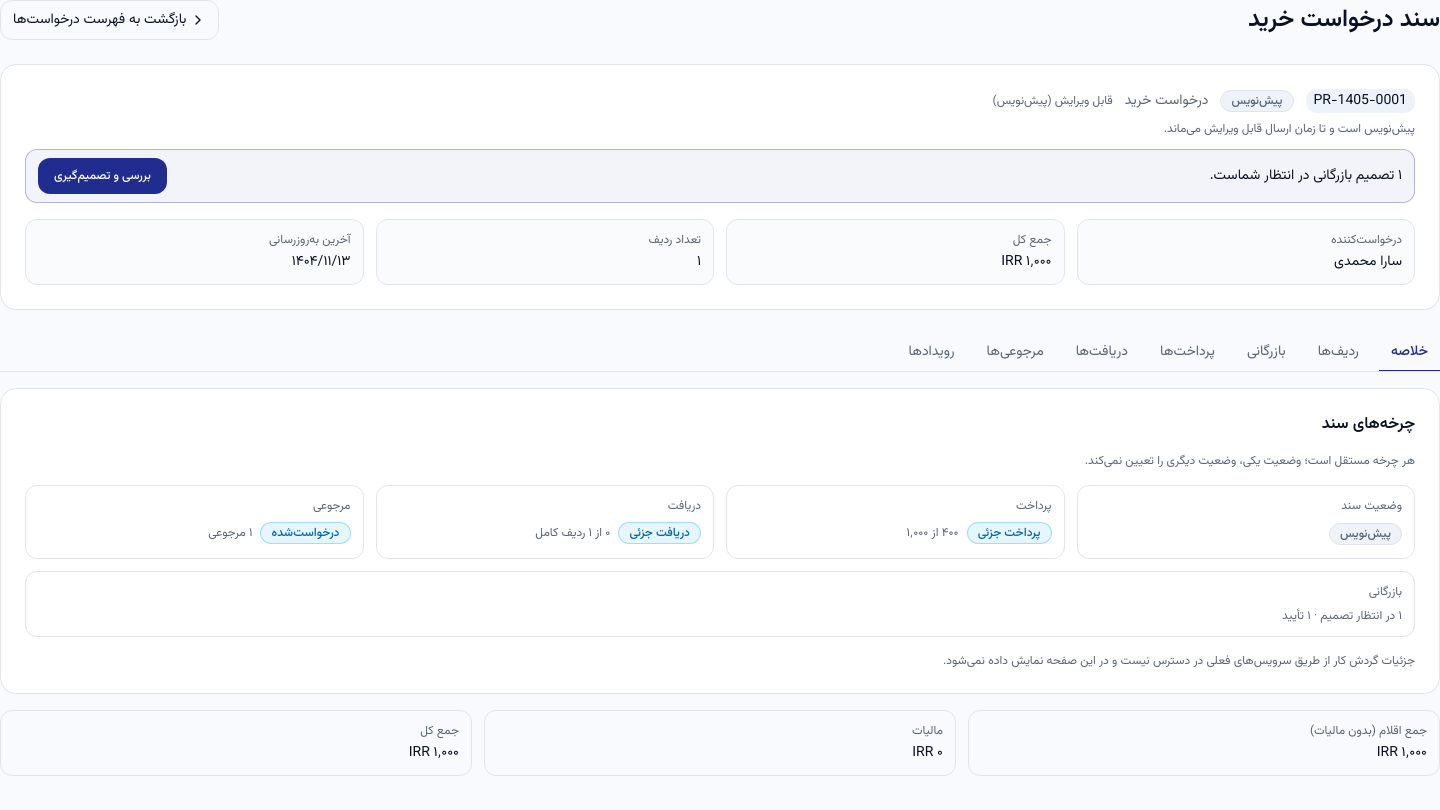
Test: CommercePurchaseDetailView — commercial decision integration › records the decision, adopts the server response and refetches approvals only
The image size is (1440, 810).
Expected: the element with test id "commerce-detail-identity" is shown, [0, 64, 1439, 310]
Click the tab with test id "commerce-detail-tab-commercial" at (1266, 353), box [1235, 334, 1298, 372]
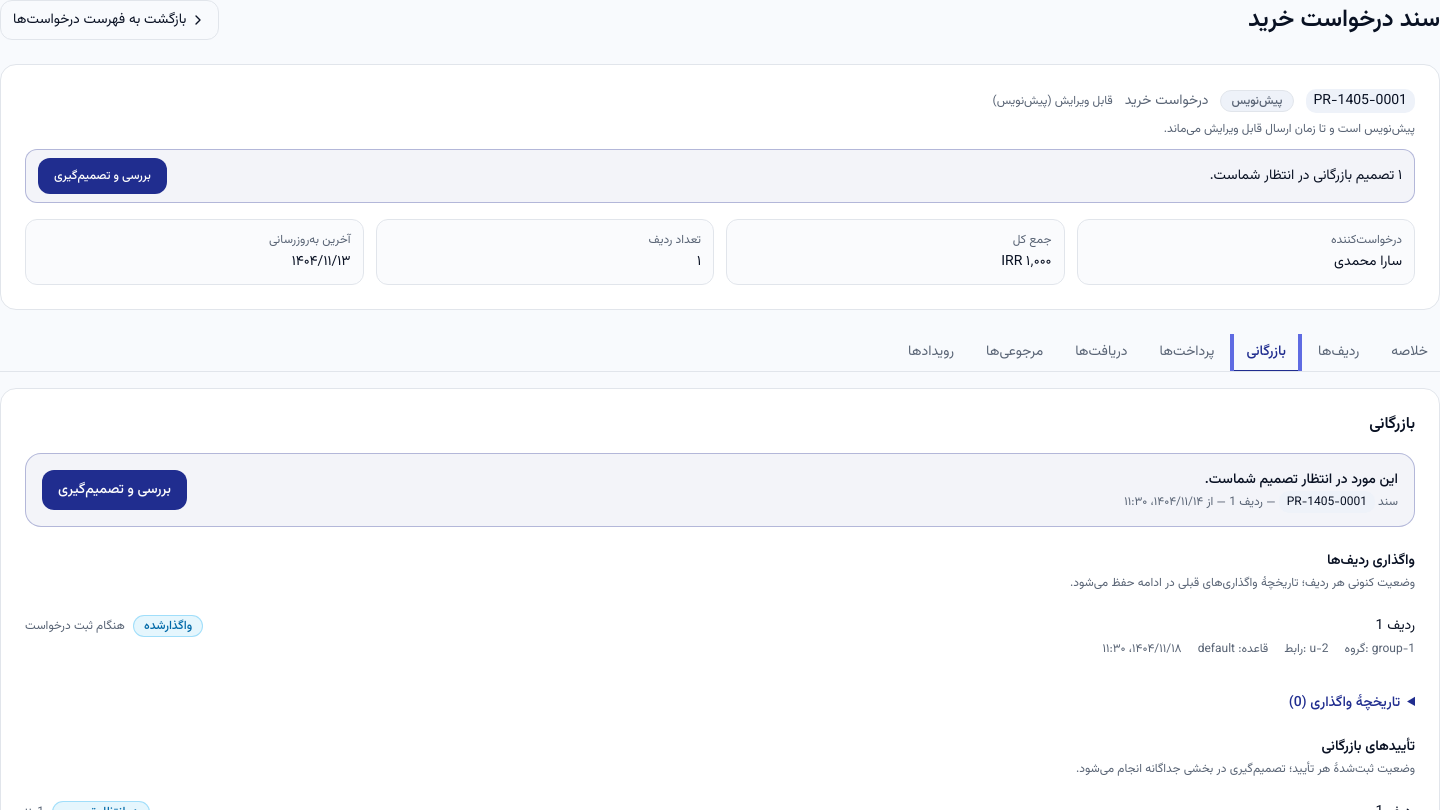
Click the button with test id "commerce-decision-open-approval-1" at (114, 490), box [42, 470, 187, 510]
(page scrolled)
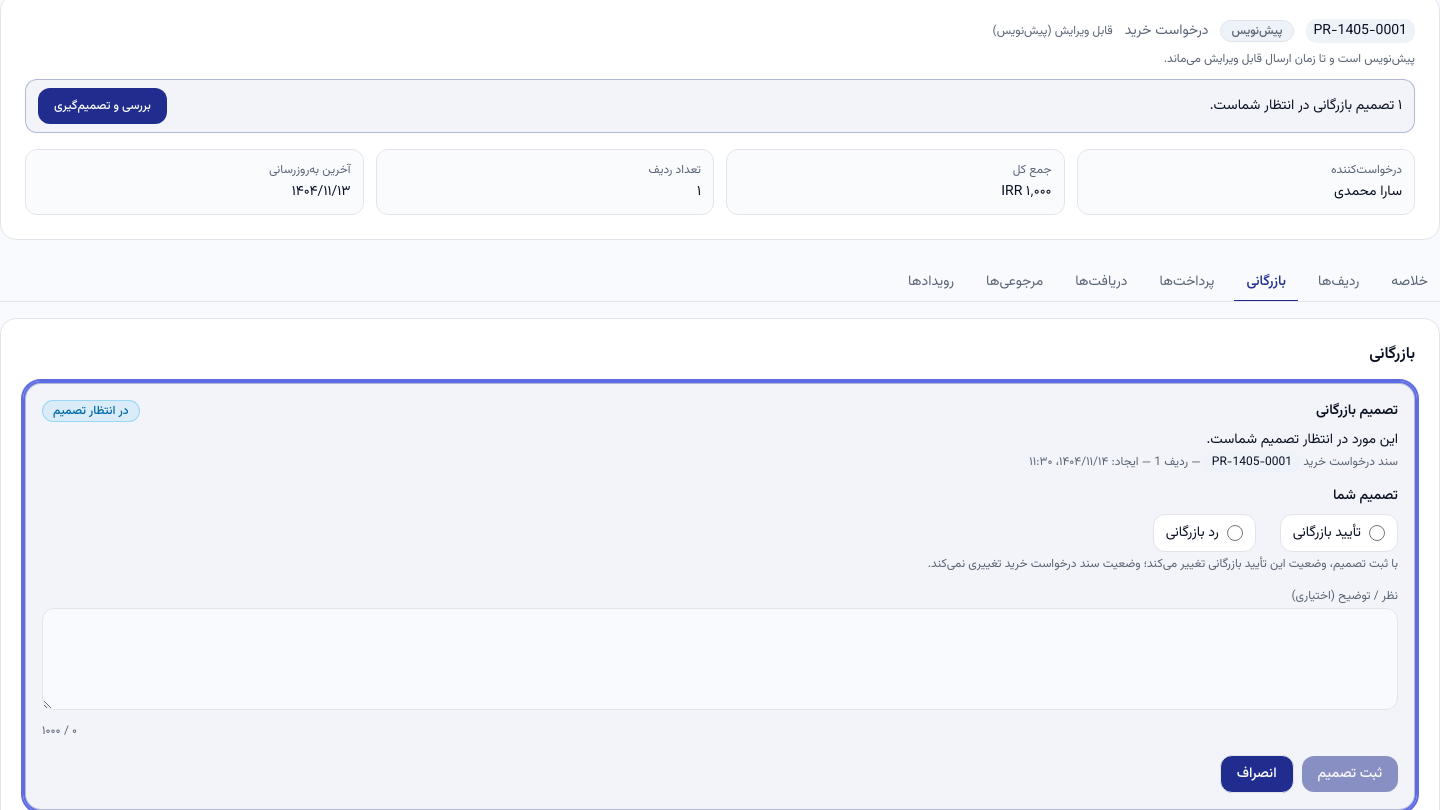
Expected: the element with test id "commerce-decision-panel" is shown, [25, 383, 1415, 809]
Click the radio button labelled "تأیید بازرگانی" at (1377, 533), box [1369, 525, 1385, 541]
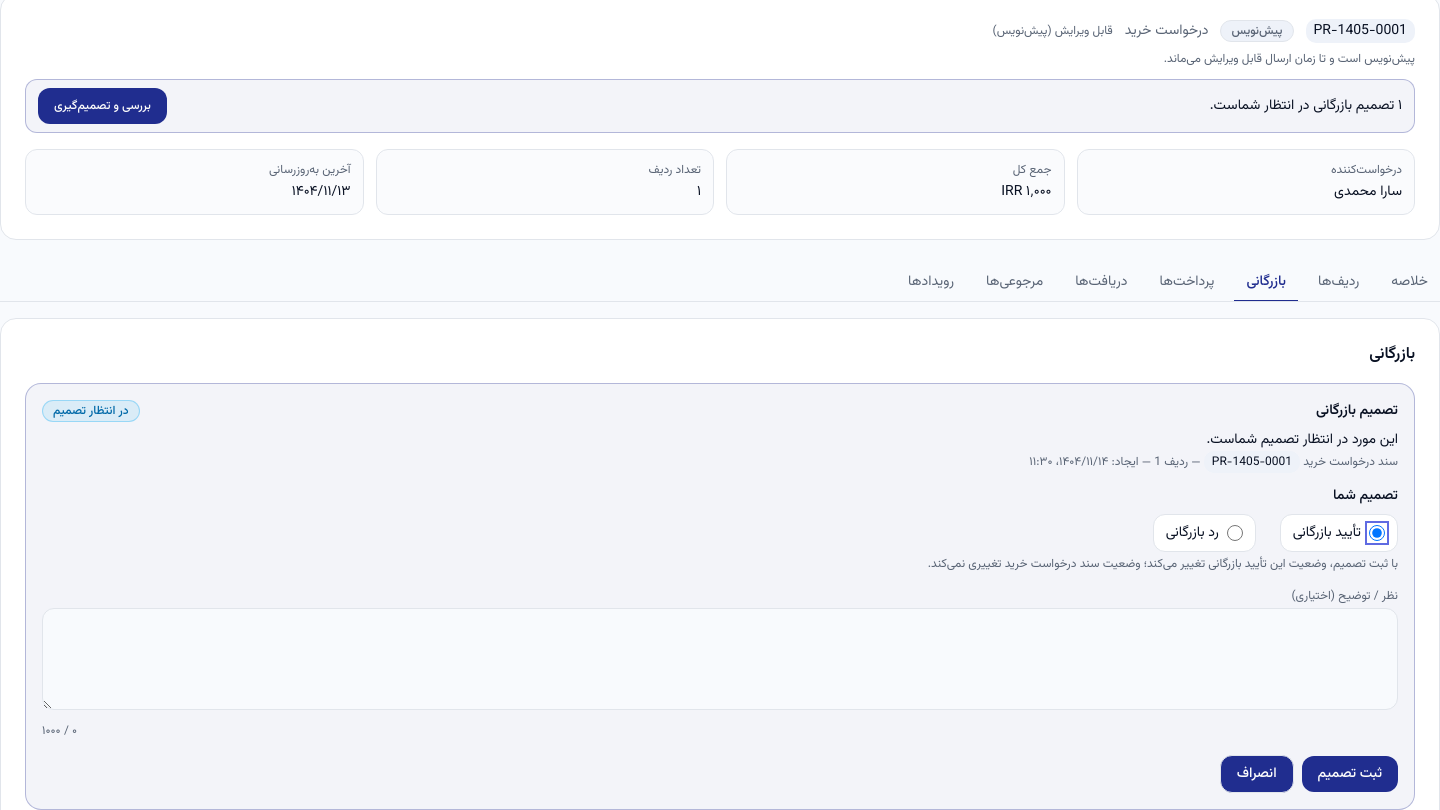
Click the button with test id "commerce-decision-submit" at (1350, 774), box [1302, 756, 1398, 792]
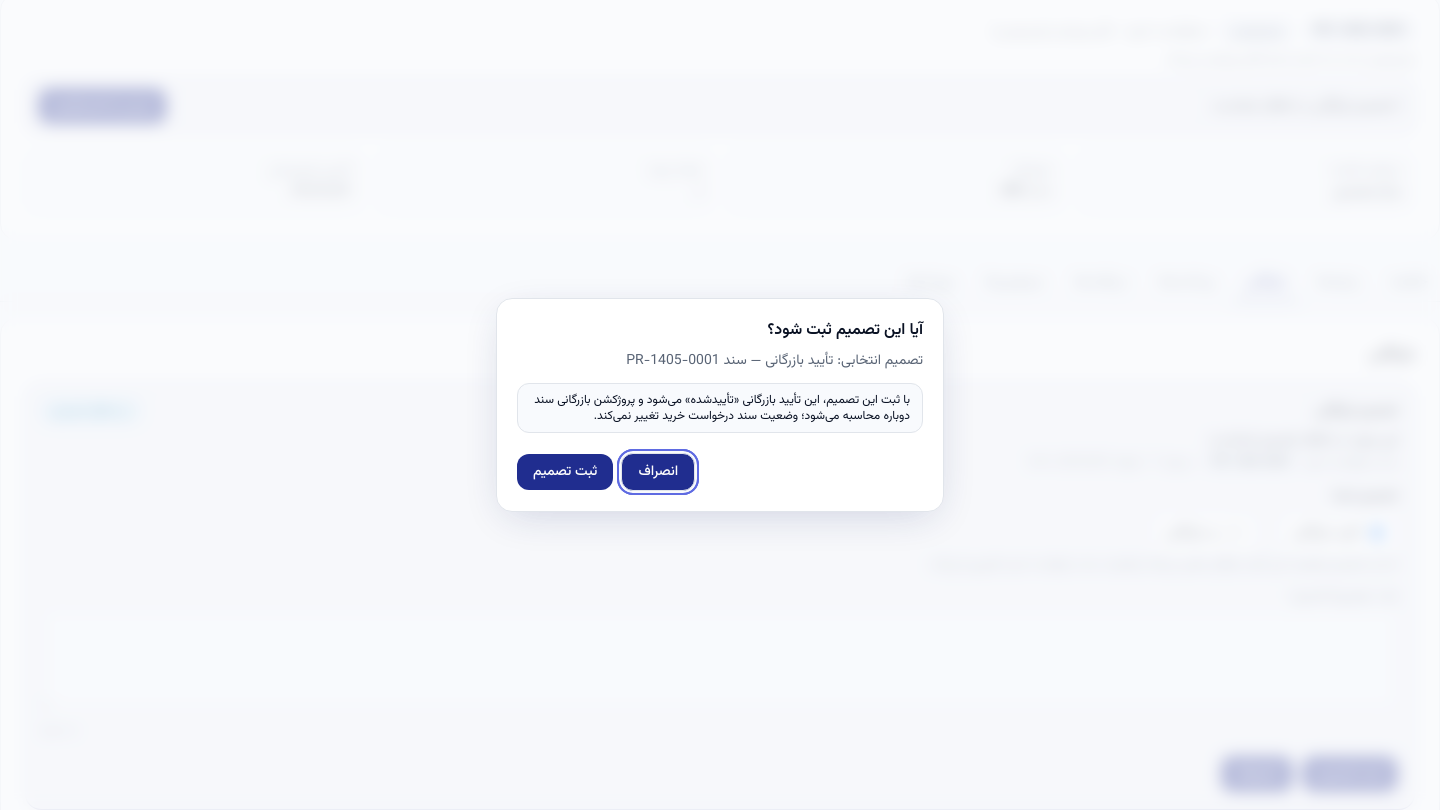
Expected: the dialog is shown, [496, 298, 944, 512]
Click the button with test id "commerce-decision-confirm-confirm" at (565, 472), box [517, 454, 613, 490]
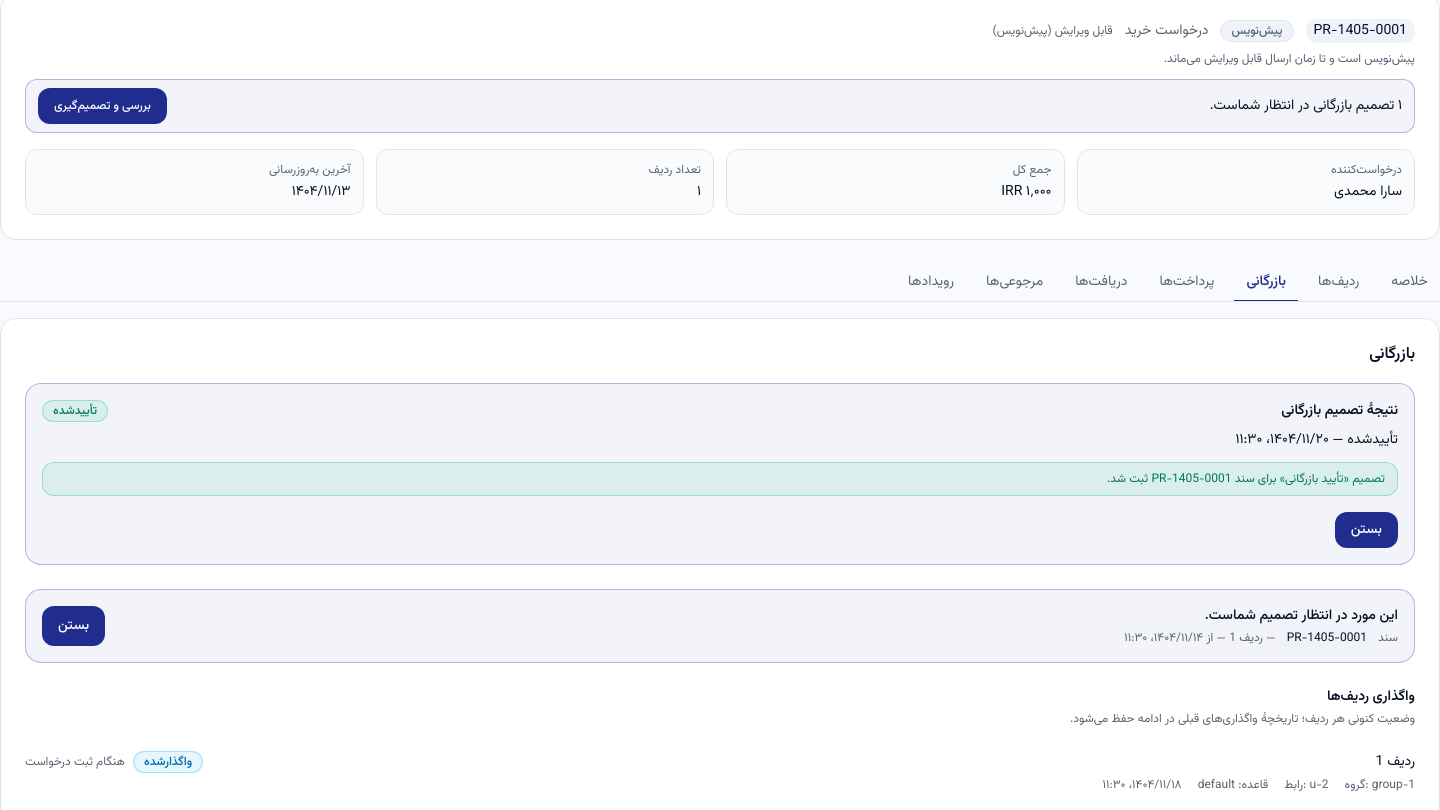
Expected: the message "تصمیم «تأیید بازرگانی» برای سند PR-1405-0001 ثبت شد." is shown, [42, 462, 1398, 496]
